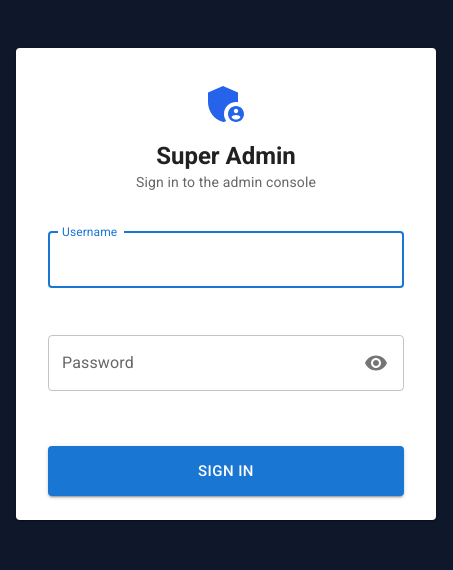
AdminLogin › shows validation error when username is empty
Click the button "Sign In" at (226, 471), box top-left (48, 446), bottom-right (404, 496)
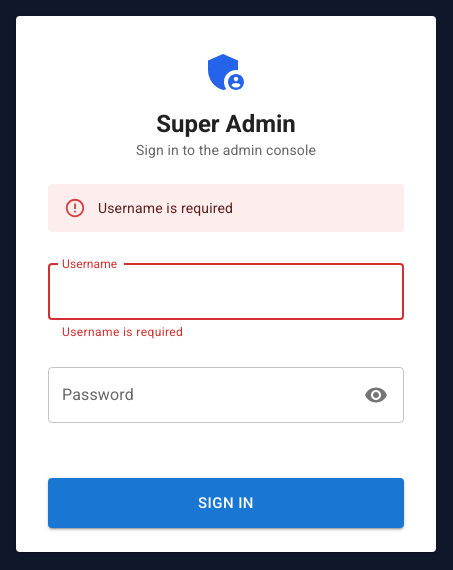
expect the 1st text "Username is required" is shown: met, box top-left (98, 200), bottom-right (233, 216)
